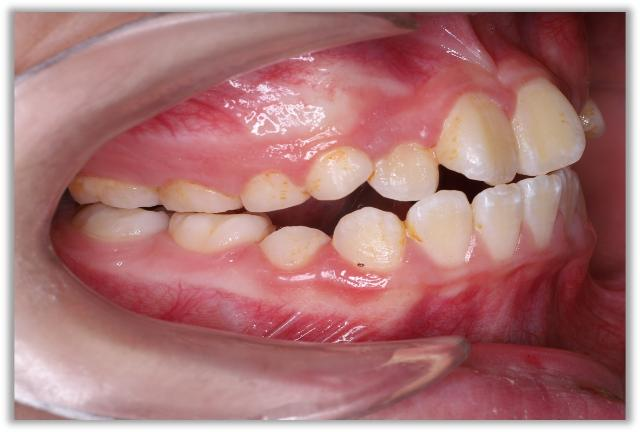canine class II 1/4: (334, 141, 476, 283)
molar class III 1/2: (156, 176, 270, 260)
